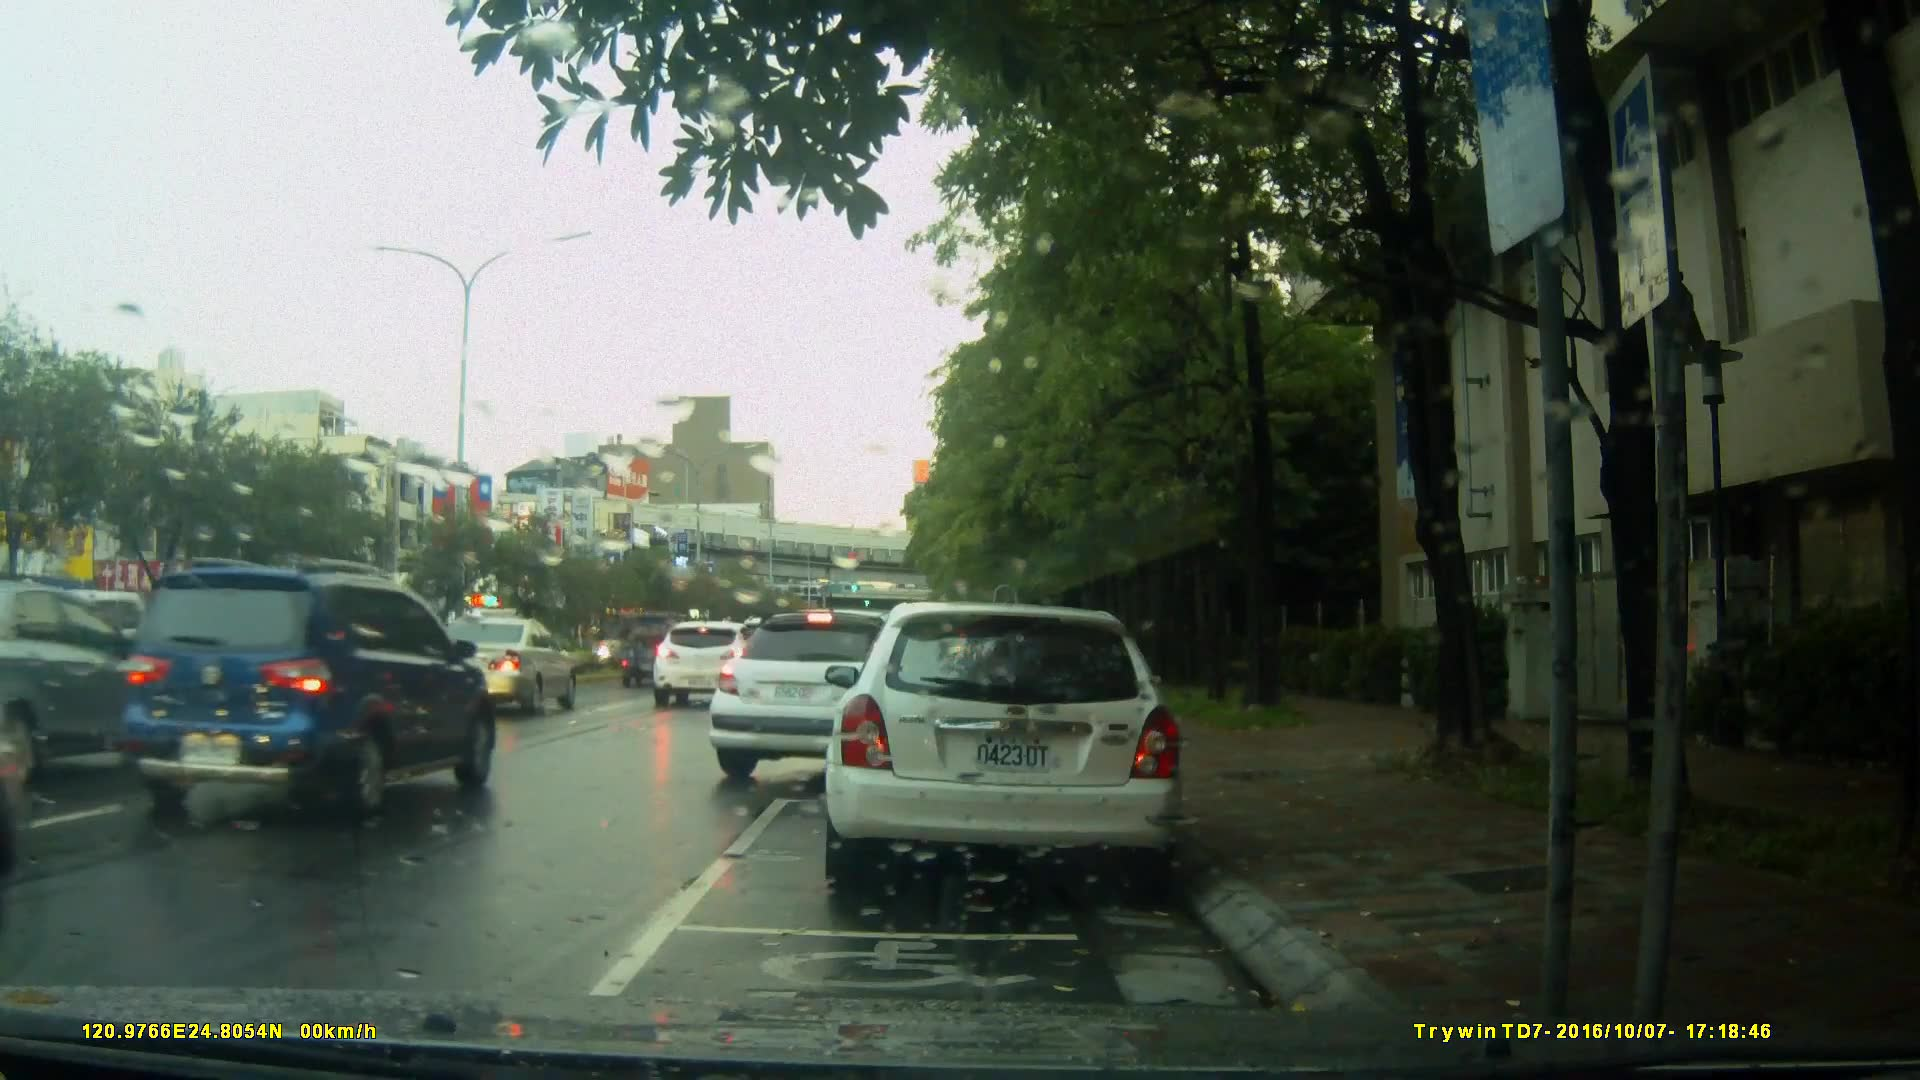vehicle: (820, 603, 1188, 898), (109, 556, 497, 823), (707, 609, 1000, 793), (22, 584, 287, 746), (406, 615, 583, 717), (651, 618, 760, 711)
